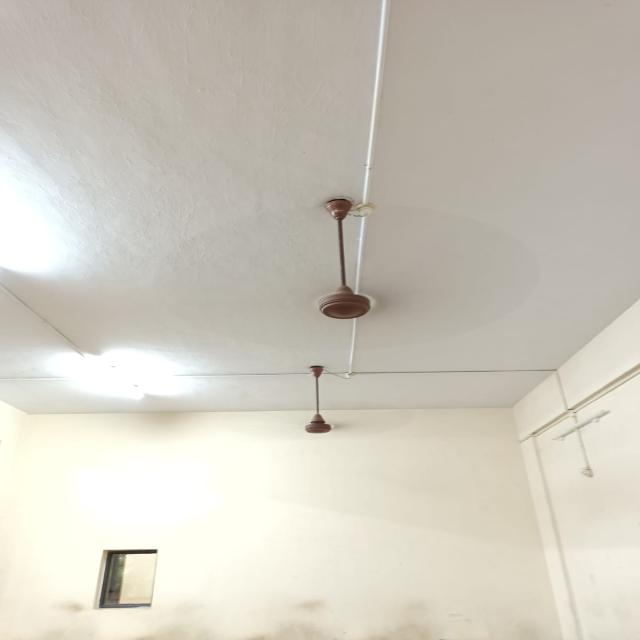fan_on: (160, 198, 540, 346), (207, 362, 430, 442)
tubelight_on: (0, 150, 71, 290), (68, 350, 152, 406)
